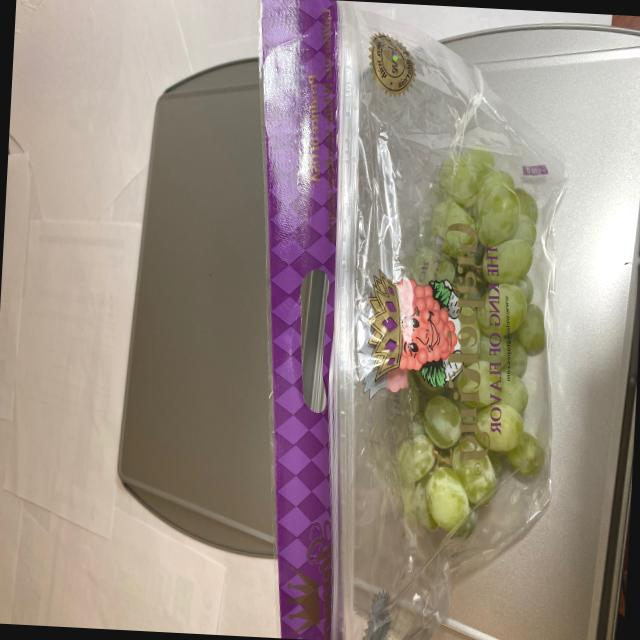grapes: (395, 144, 553, 576)
